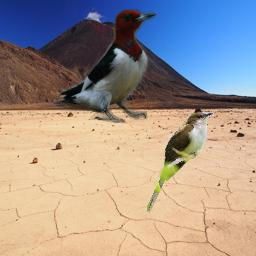Cuckoo: (145, 111, 214, 213)
Woodpecker: (53, 9, 158, 123)
